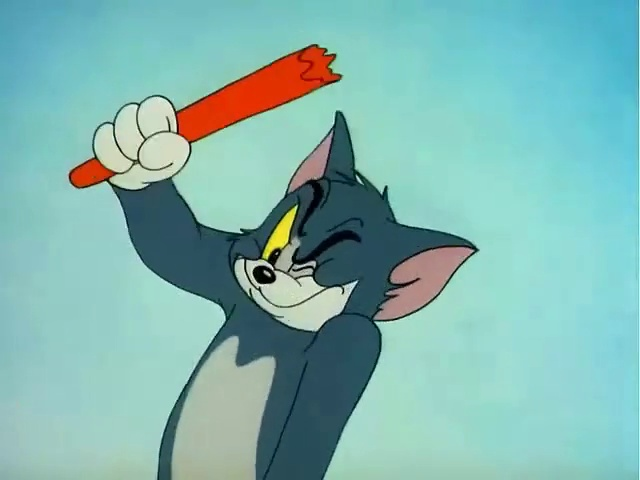tom: (49, 37, 507, 478)
